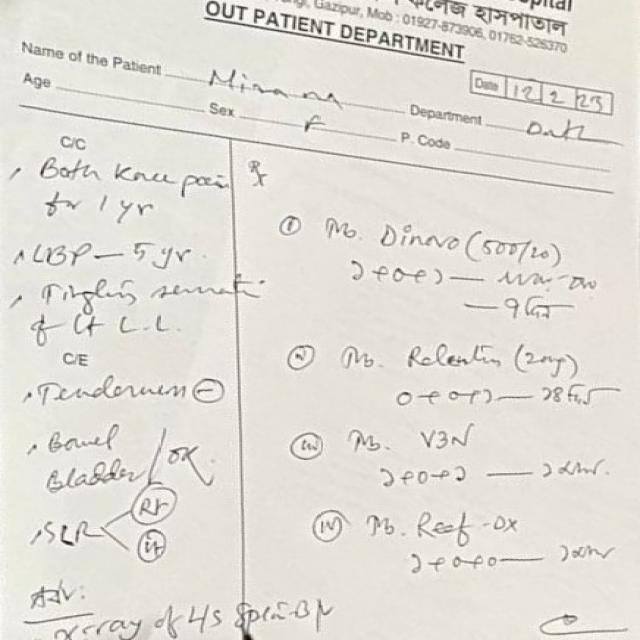Dinovo: (374, 212, 461, 259)
Iventi: (414, 426, 474, 459)
Reef DX: (411, 503, 522, 548)
